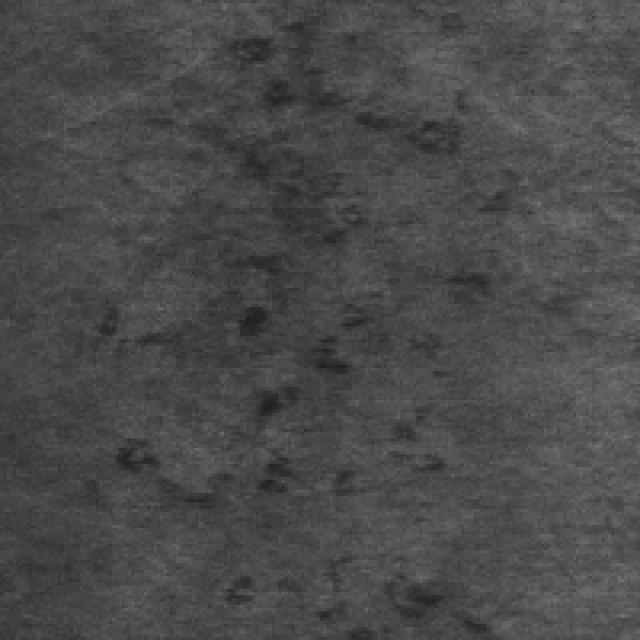rolled-in_scale: (182, 80, 410, 611)
